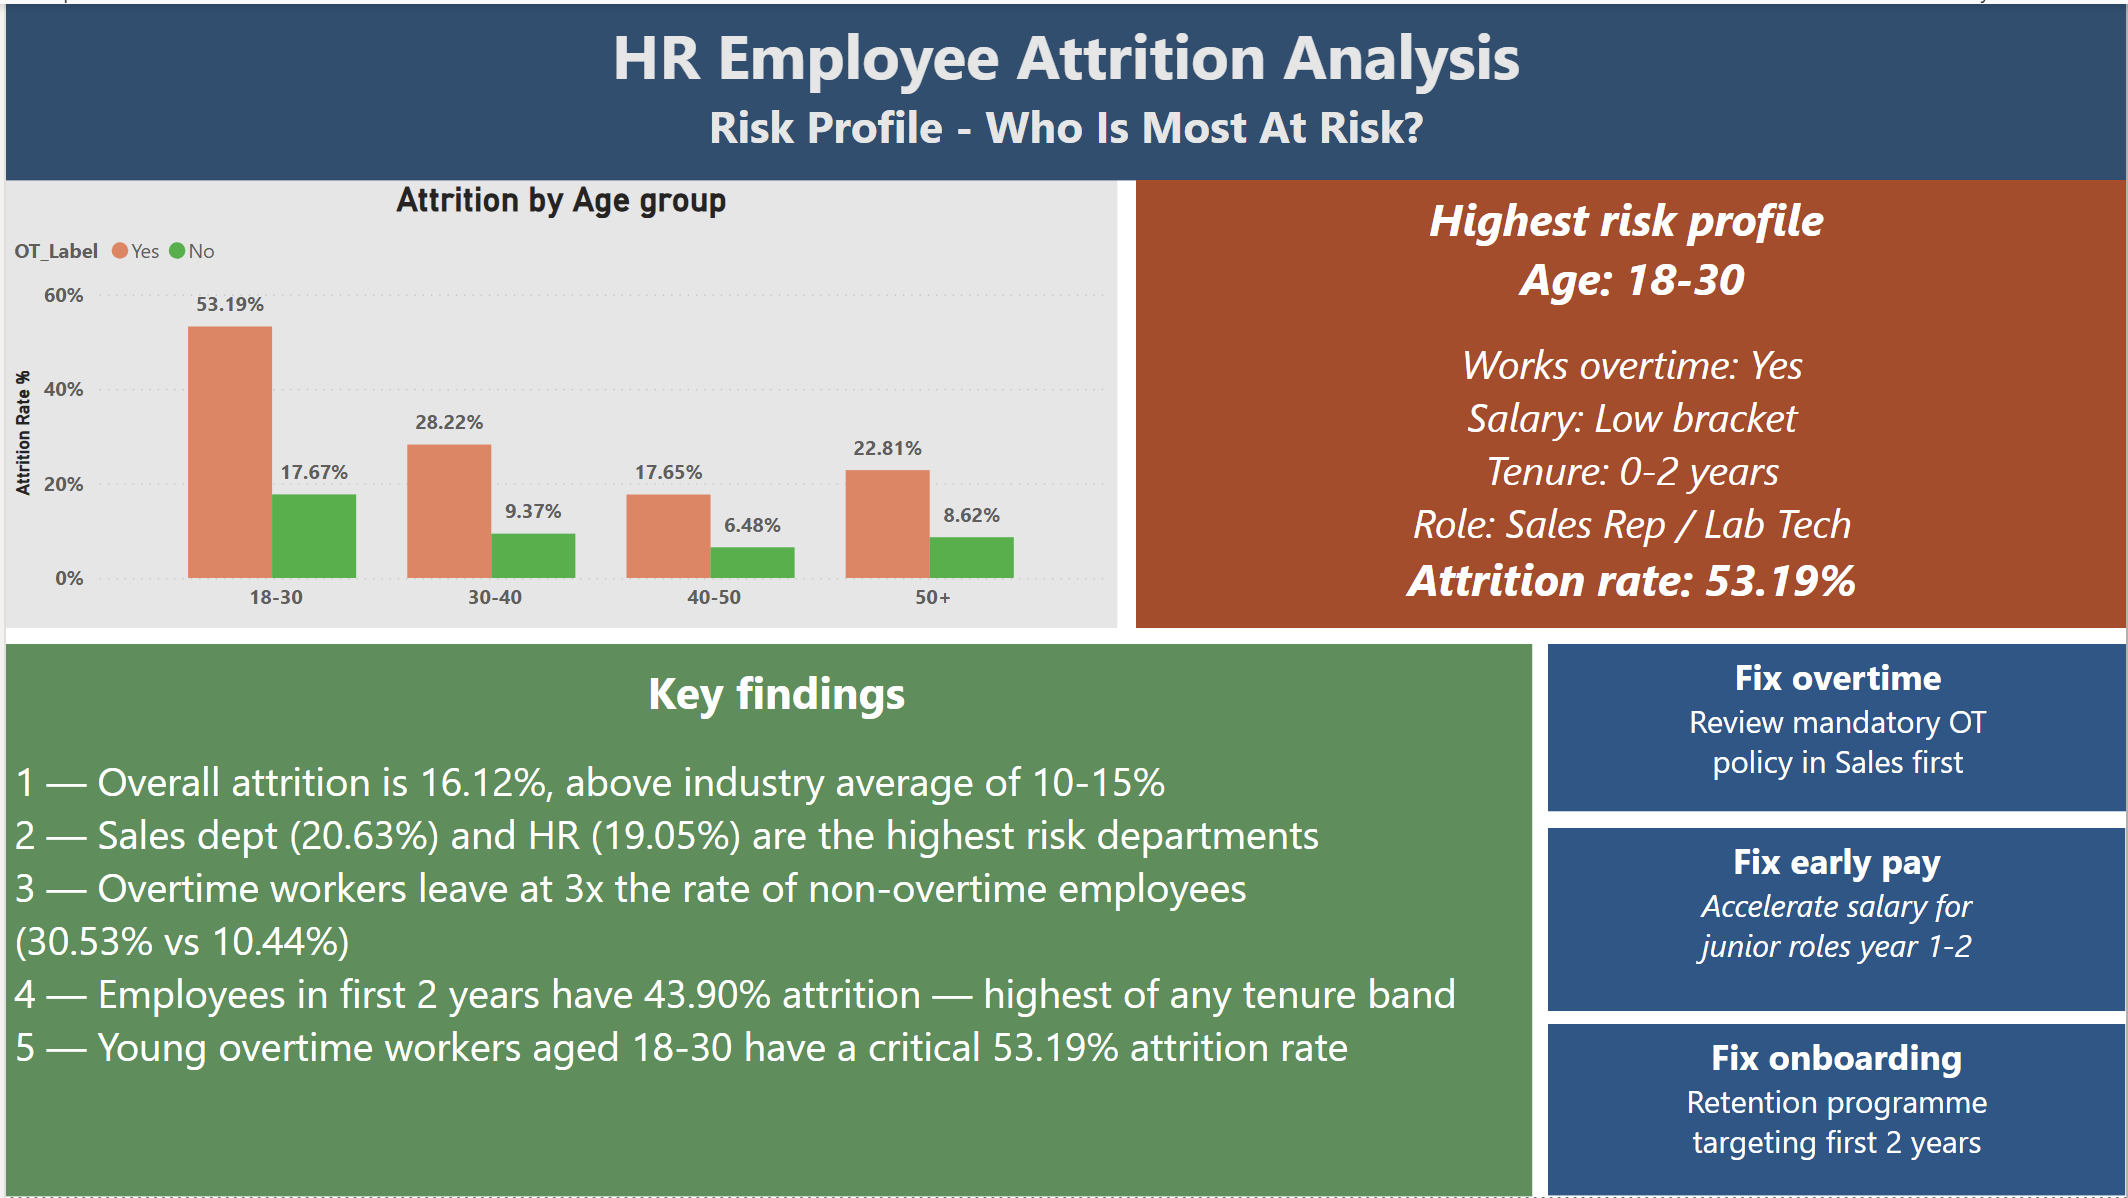

Layout of this report page (visuals, bound fields, positions):
{"tool":"powerbi","page":{"name":"Risk_profile","canvas":[1280,720],"ordinal":2},"visuals":[{"type":"clusteredColumnChart","title":"Attrition by Age group","fields":{"Category":["HR-Employee-Attrition_Clean.Age_group"],"Y":["HR-Employee-Attrition_Clean.Attrition Rate %"],"Series":["HR-Employee-Attrition_Clean.OT_Label"]},"box":[0,106.4,670.8,270.3],"z":0},{"type":"textbox","box":[0,0,1280,106.4],"z":3000},{"type":"textbox","box":[682,106.4,599.4,270.3],"z":3001},{"type":"textbox","box":[0,386.5,921.5,333.3],"z":3002},{"type":"textbox","box":[931.3,386.5,350.1,100.8],"z":3003},{"type":"textbox","box":[931.3,497.2,348.7,110.6],"z":3004},{"type":"textbox","box":[931.3,616.2,348.7,103.6],"z":3005}]}

Visuals, with their boxes in screenshot pixels (x1, y1, x2, y2), scaled from the page's 1280x720 canvas onto the 2128x1198 screenshot:
"Attrition by Age group" clusteredColumnChart: pyautogui.locateOnScreen(0, 177, 1115, 627)
textbox: pyautogui.locateOnScreen(0, 0, 2127, 177)
textbox: pyautogui.locateOnScreen(1134, 177, 2127, 627)
textbox: pyautogui.locateOnScreen(0, 643, 1532, 1197)
textbox: pyautogui.locateOnScreen(1548, 643, 2127, 811)
textbox: pyautogui.locateOnScreen(1548, 827, 2127, 1011)
textbox: pyautogui.locateOnScreen(1548, 1025, 2127, 1197)
